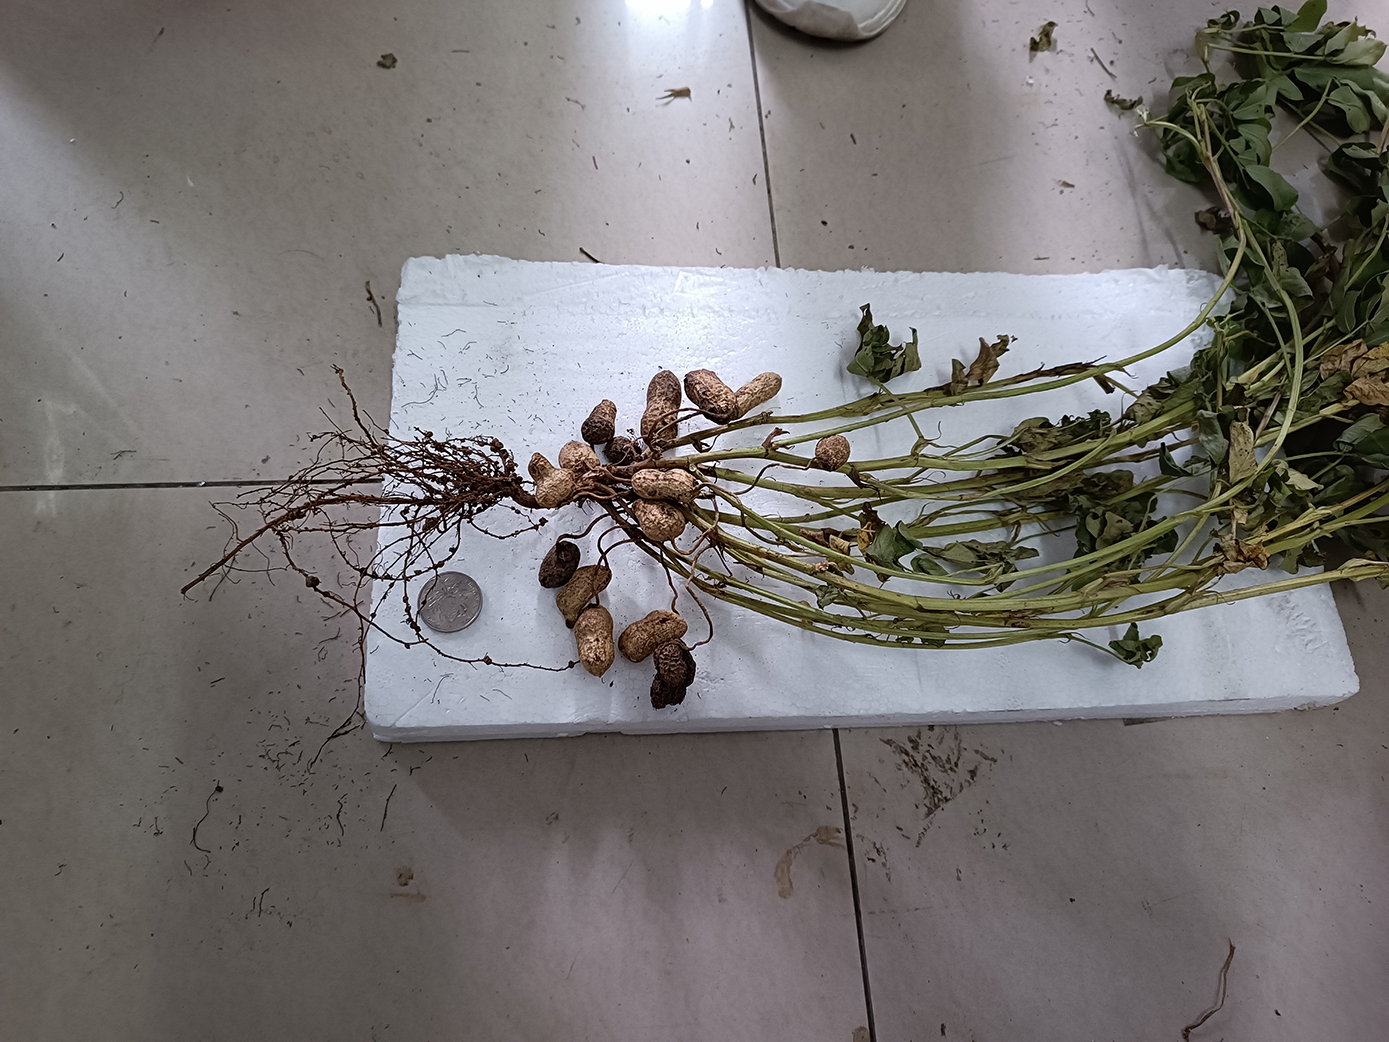h: (618, 609, 688, 660), (557, 564, 610, 626), (572, 603, 615, 675), (632, 467, 701, 503), (530, 451, 572, 509), (630, 497, 685, 539), (736, 371, 784, 412), (815, 435, 850, 472), (562, 439, 599, 471)
l: (639, 370, 682, 447), (651, 638, 692, 711), (687, 368, 736, 424), (539, 543, 582, 588), (582, 400, 615, 444), (605, 436, 637, 461)
